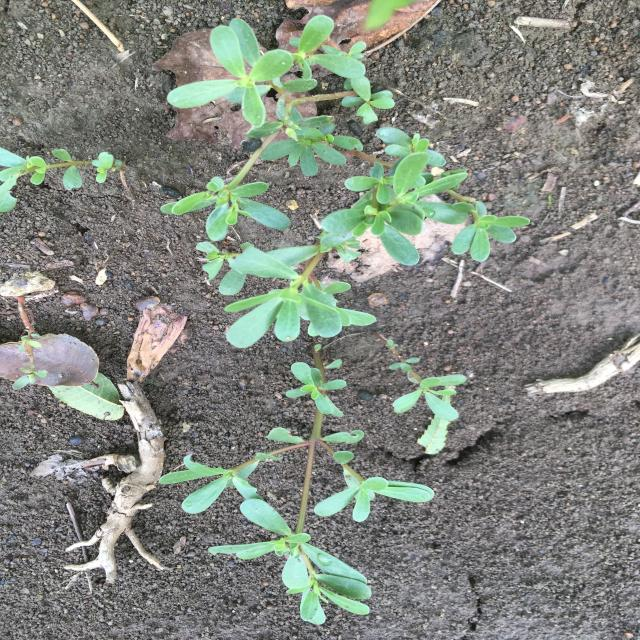Purslane: (160, 15, 530, 348), (159, 340, 435, 624), (372, 332, 468, 421), (0, 147, 124, 213), (12, 297, 48, 390)
